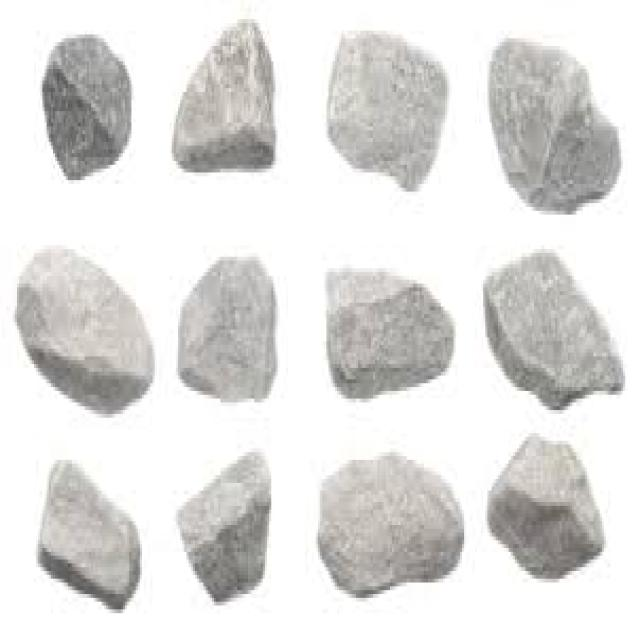Metamorphic: (17, 245, 165, 429), (486, 31, 628, 214), (314, 444, 471, 602), (483, 425, 621, 602), (479, 249, 631, 406), (324, 16, 456, 196), (314, 260, 472, 402), (157, 16, 299, 172), (172, 448, 282, 606), (38, 468, 144, 624), (176, 253, 284, 406), (38, 27, 136, 180)
